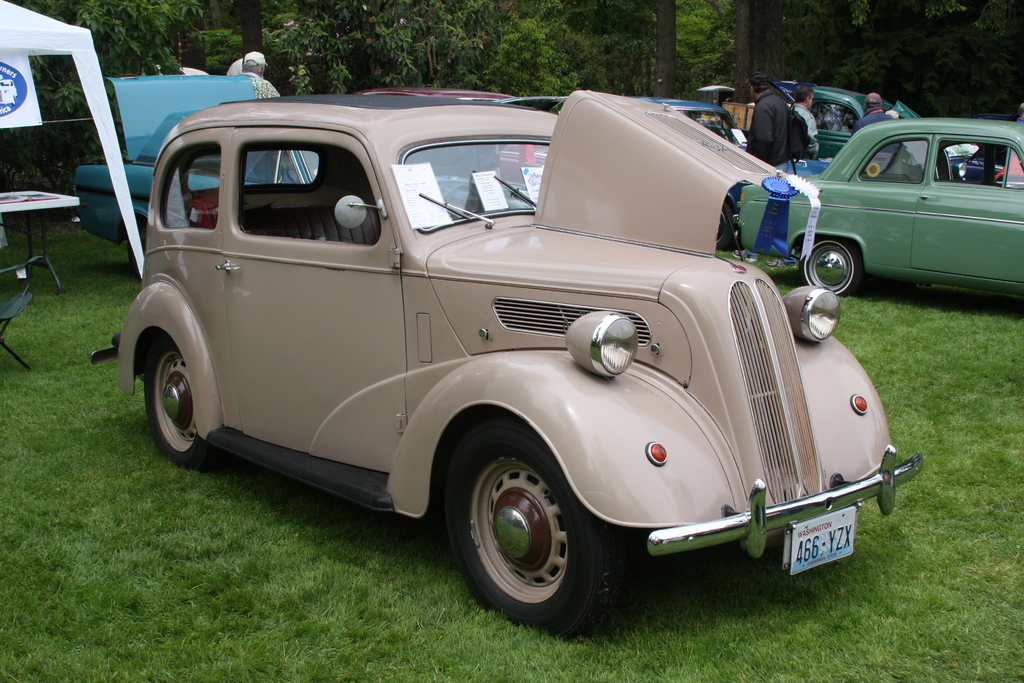Person: (747, 76, 792, 164), (854, 94, 894, 153), (788, 85, 819, 161), (241, 52, 282, 99)
